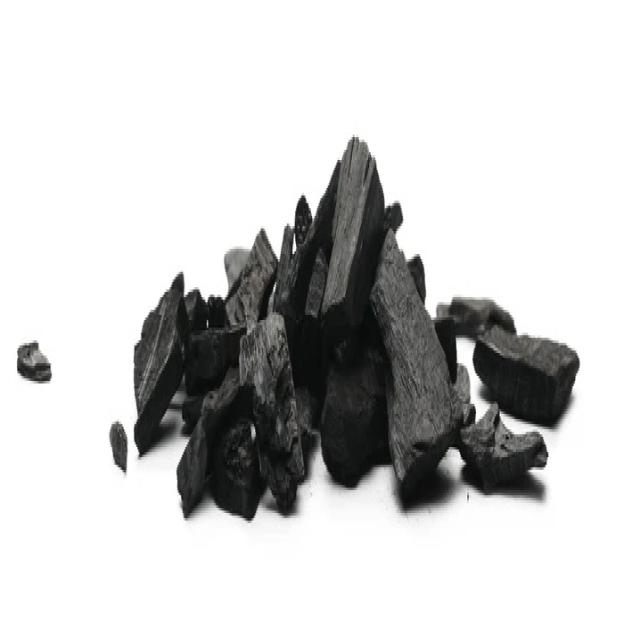Sedimentary: (101, 135, 582, 508)
